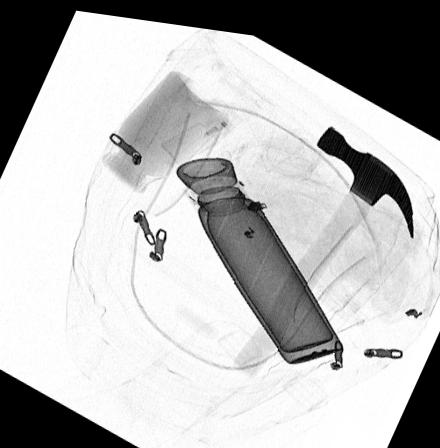Hammer: (232, 115, 414, 373)
